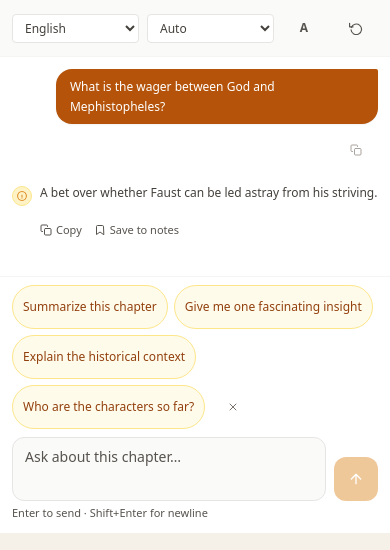
Test case: a successful save flips the button to Saved
Click the button "Save to notes".
click(136, 230)  # box [94,208,179,252]
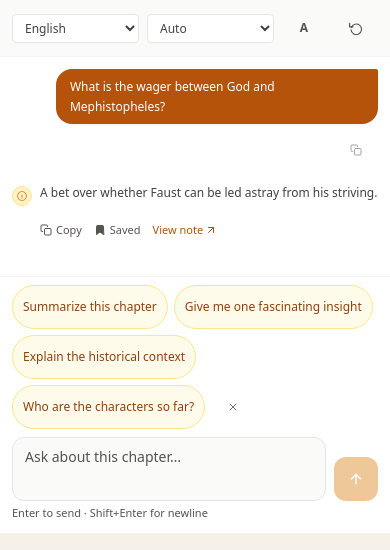
Result: the button "Saved" is shown at [94,208,141,252]
